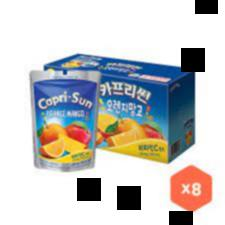cafrisun: (25, 66, 99, 170)
